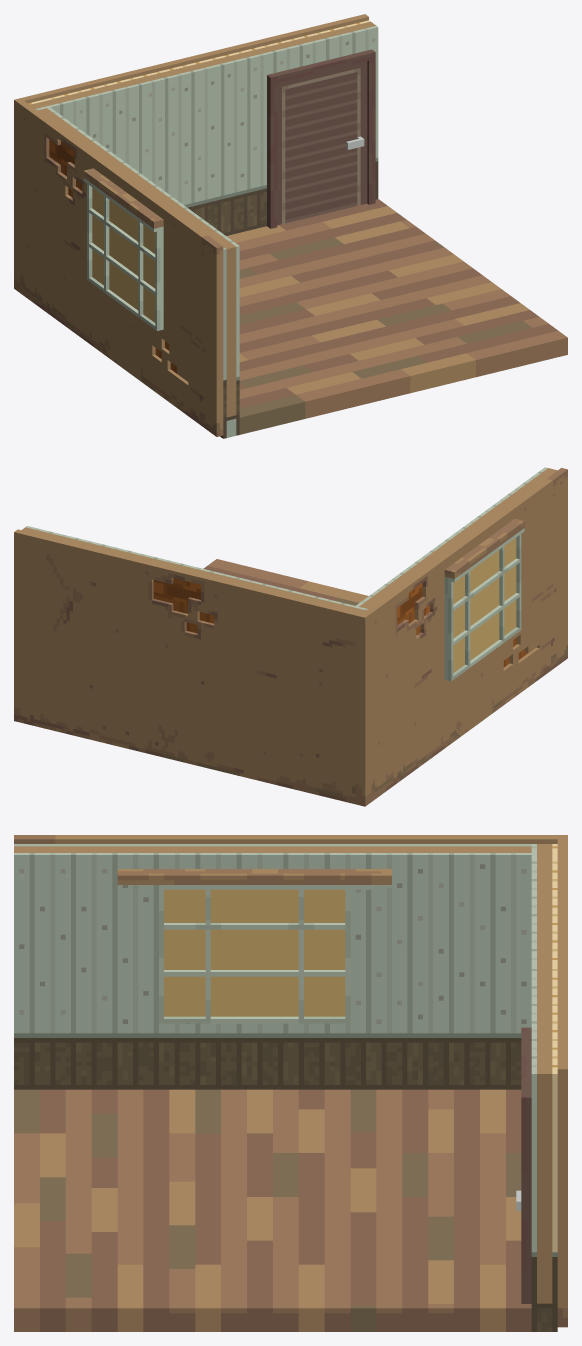
The model's file is Empty_Room.glb.
3 views of the same model, one above another, from view 1: azimuth 30°, elevation 25°; view 2: azimuth 150°, elevation 25°; view 3: azimuth 270°, elevation 25° (orthographic). The views are drawn at different scales.
Parts seen in each view (by area): view 1: Untitled, Untitled.014, Untitled.012, Untitled.002, Untitled.015, Untitled.001, Untitled.013; view 2: Untitled.013, Untitled.014, Untitled.015, Untitled.001, Untitled.012, Untitled; view 3: Untitled, Untitled.001, Untitled.005, Untitled.012, Untitled.013, Untitled.014, Untitled.002.
Part boxes in pixels (x1,y1,x2,y2): Untitled: [226, 199, 567, 434]; Untitled.014: [17, 101, 223, 436]; Untitled.012: [28, 20, 378, 235]; Untitled.002: [267, 49, 375, 228]; Untitled.015: [83, 168, 163, 330]; Untitled.001: [37, 107, 239, 438]; Untitled.013: [14, 14, 368, 290]; Untitled.013: [14, 529, 368, 806]; Untitled.014: [363, 468, 567, 803]; Untitled.015: [444, 518, 524, 681]; Untitled.001: [356, 467, 557, 608]; Untitled.012: [21, 526, 367, 613]; Untitled: [203, 559, 368, 605]; Untitled: [14, 1089, 531, 1331]; Untitled.001: [14, 844, 531, 1089]; Untitled.005: [117, 869, 391, 1023]; Untitled.012: [531, 844, 557, 1331]; Untitled.013: [557, 835, 567, 1327]; Untitled.014: [14, 835, 557, 843]; Untitled.002: [516, 1027, 531, 1303].
Bounding box in the file's own units: 2.2 × 1.12 × 2.14.
1 material, 1 textured.
